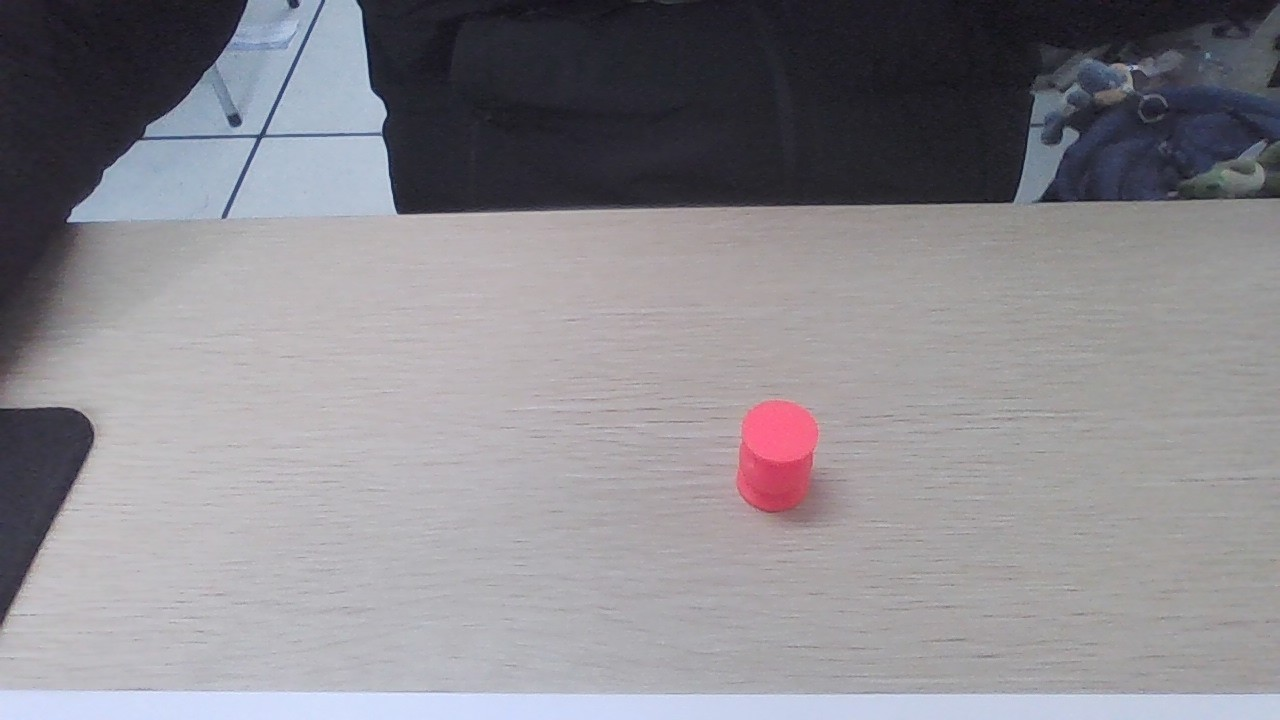KHS-plastic: (735, 397, 820, 513)
